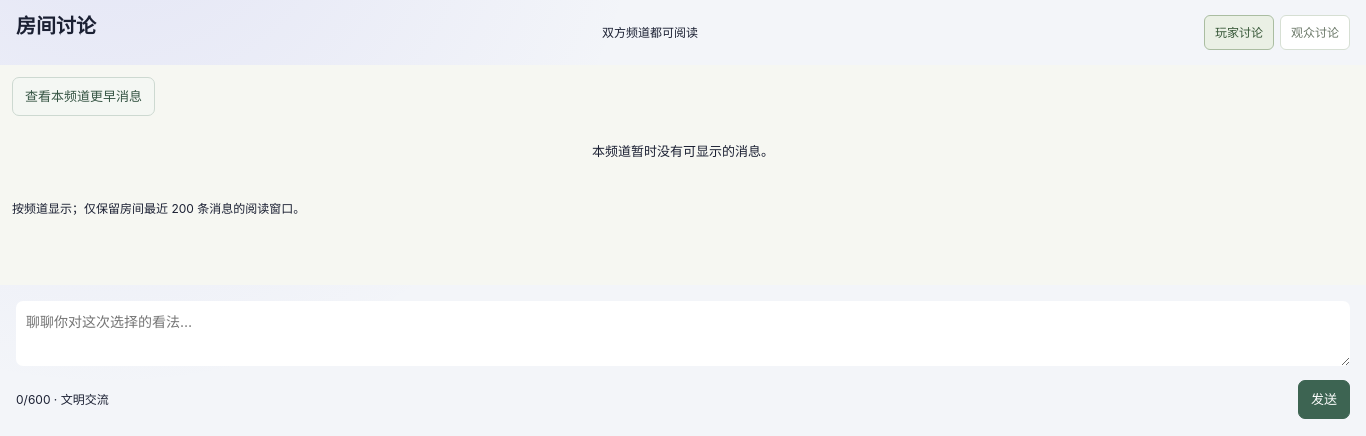
Test: rail workspace › expands and re-reads the whole visible channel so earlier withdrawals are not cached
The image size is (1366, 436).
What coordinates should you click on to do the following:
click the button "查看本频道更早消息"
I would click on:
 (84, 96)
Its box is [12,77,155,116].
Wait 1200 ms
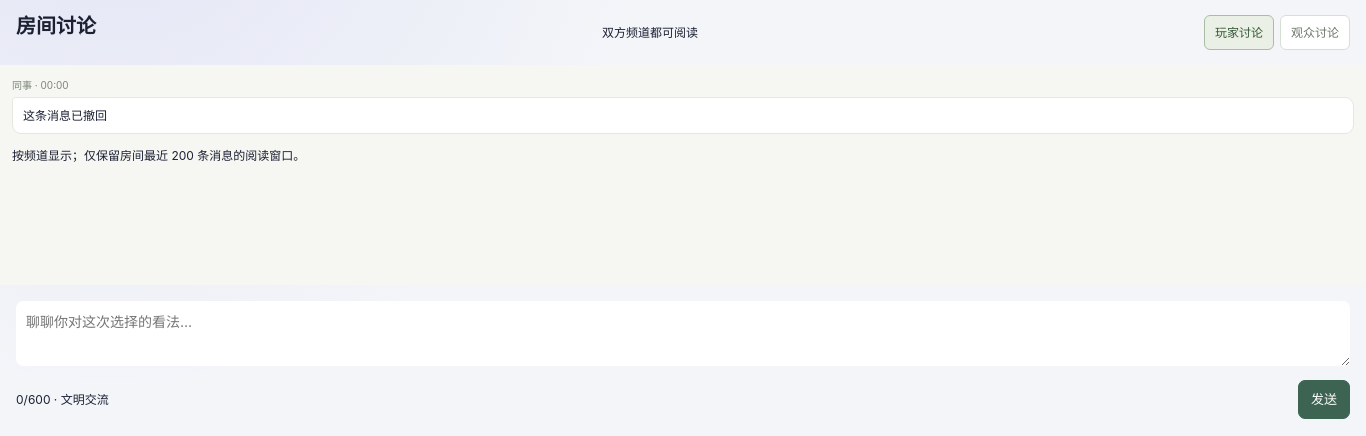
Expected: the text "这条消息已撤回" is shown, [12,97,1354,134]
